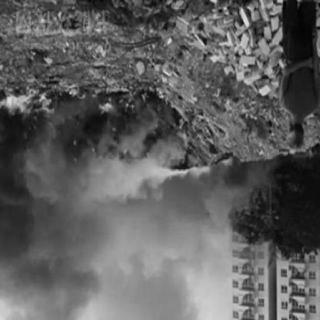Fire: (2, 76, 175, 178)
Smoke: (9, 160, 199, 319)
